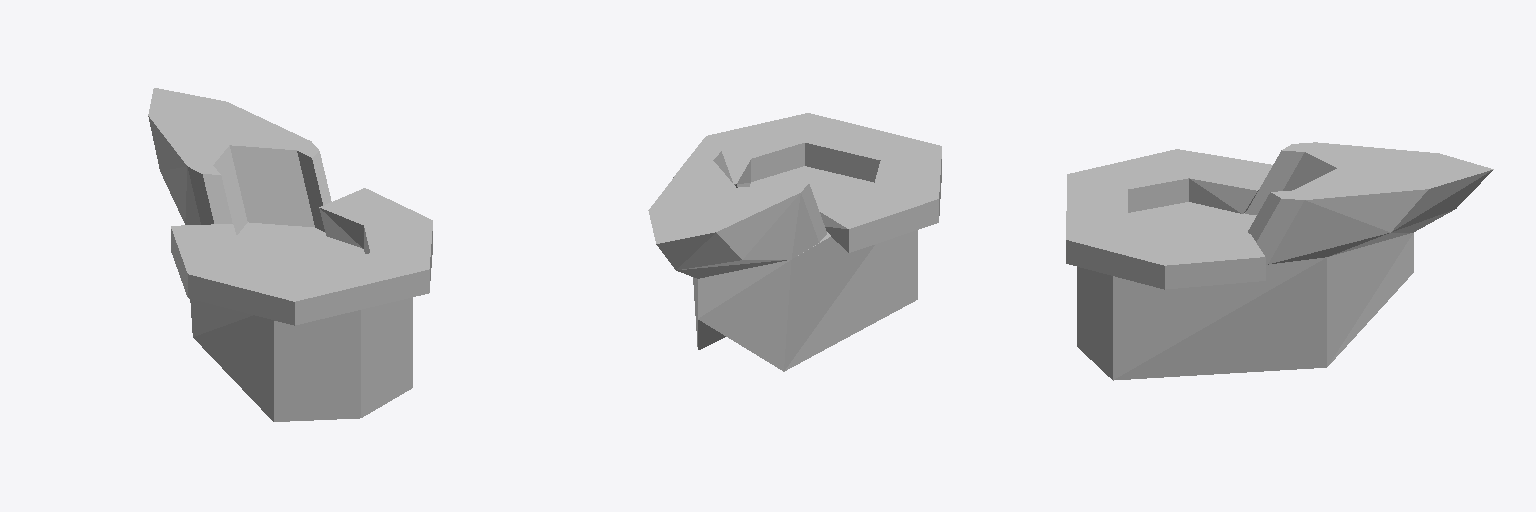
File: toilet.obj
3 renders of one model, left to right at view 1: azimuth 30°, elevation 25°; view 2: azimuth 150°, elevation 25°; view 3: azimuth 270°, elevation 25°, orthographic.
Parts seen in each view (by area): view 1: Cube.001; view 2: Cube.001; view 3: Cube.001.
Part boxes in pixels (x1,y1,x2,y2): Cube.001: (148, 88, 432, 421); Cube.001: (648, 113, 941, 371); Cube.001: (1066, 142, 1493, 380).
Bounding box in the file's own units: 1.3 × 0.9223 × 2.01.